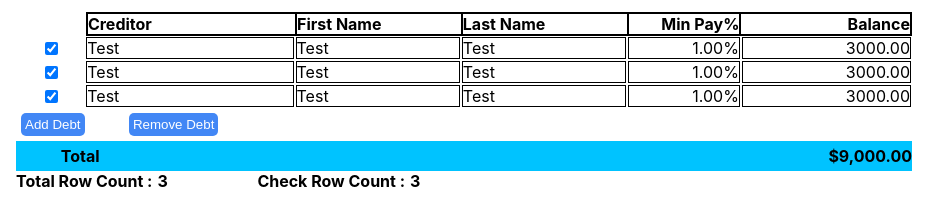
Test case: React Tests › If a user clicks the Remove Debt button when the last row *is not* checked, the last row is deleted and total row count is decremented, but total check count an
The image size is (929, 204).
What coordinates should you click on to do the following:
click the 3rd checkbox
I would click on:
 (51, 96)
Its box is [45, 90, 58, 102].
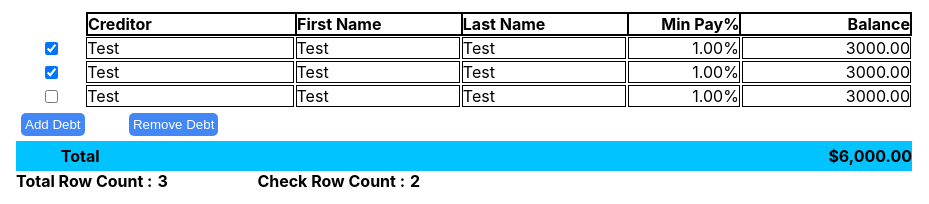
What coordinates should you click on to do the following:
click the button with test id "removeDebt"
I would click on:
 (174, 124)
Its box is [129, 113, 218, 136].
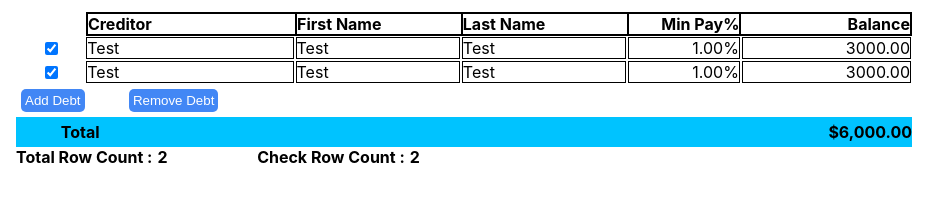
Check: the text with test id "checkCount" reads "2", box [410, 147, 420, 167]
Check: the text with test id "rowCount" reads "2", box [158, 147, 168, 167]
